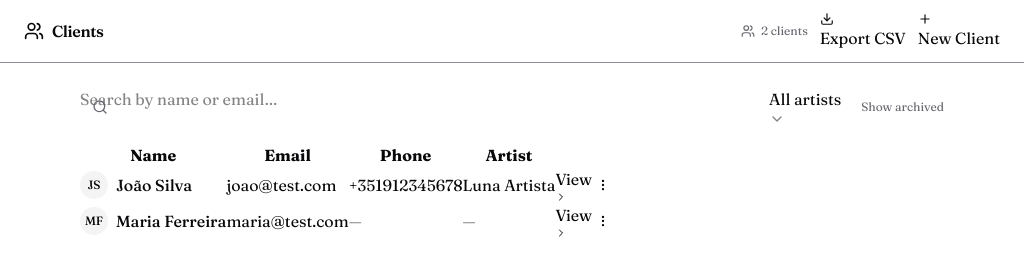
Scenario: ClientListPage › selecting a specific artist filters the table to that artist's clients
Click the dropdown named "filter by artist": (805, 107) [769,87,841,127]
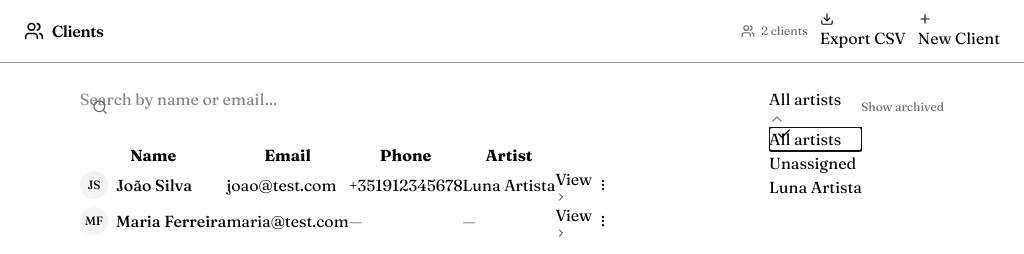
Click the option "Luna Artista": (815, 187) [769,175,862,199]
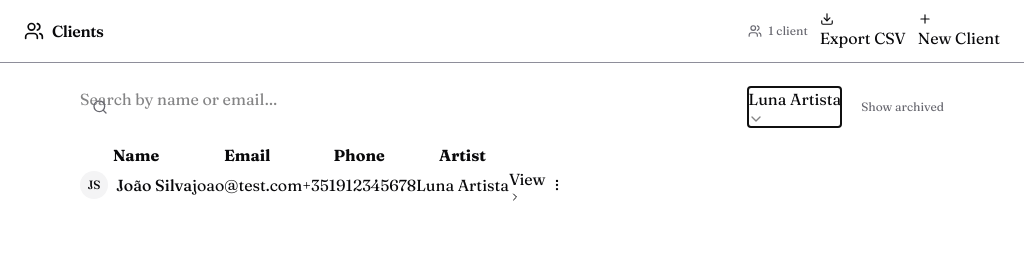
Now the text "João Silva" is shown 2 times
Now the text "Maria Ferreira" is gone
